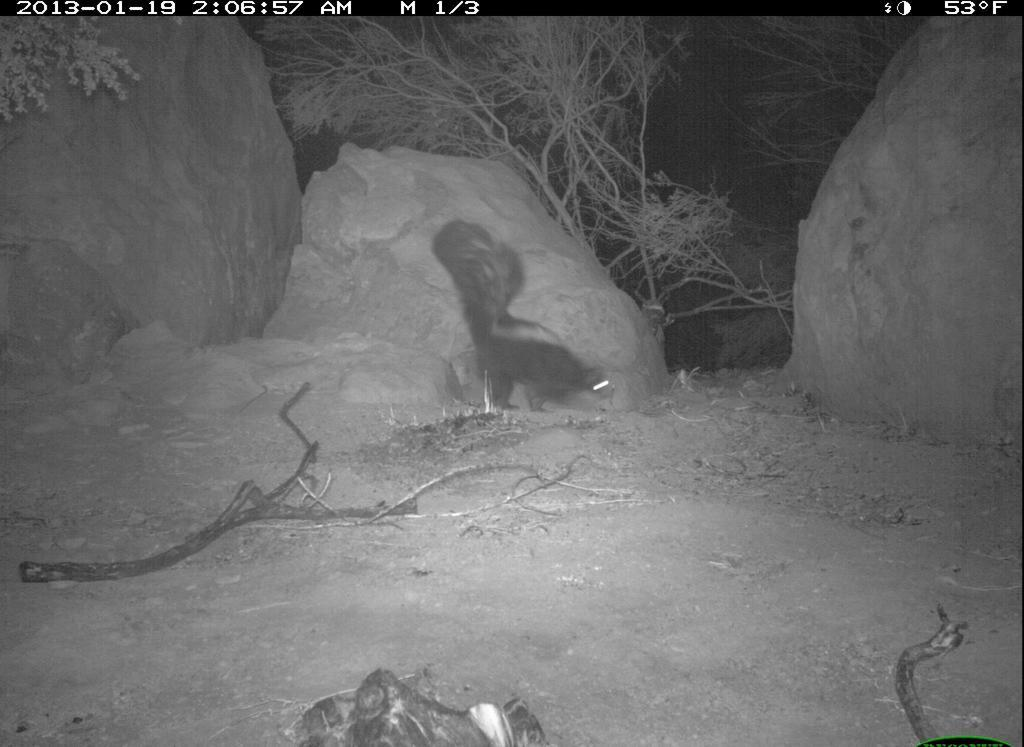skunk: (415, 201, 623, 432)
